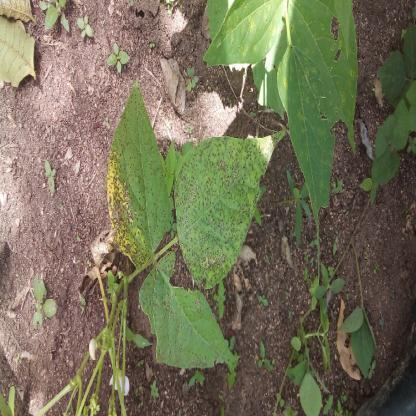Beans_Angular_LeafSpot: (173, 125, 284, 288), (105, 78, 170, 275), (274, 47, 336, 244), (140, 252, 238, 376), (295, 8, 361, 151), (209, 3, 280, 64)
